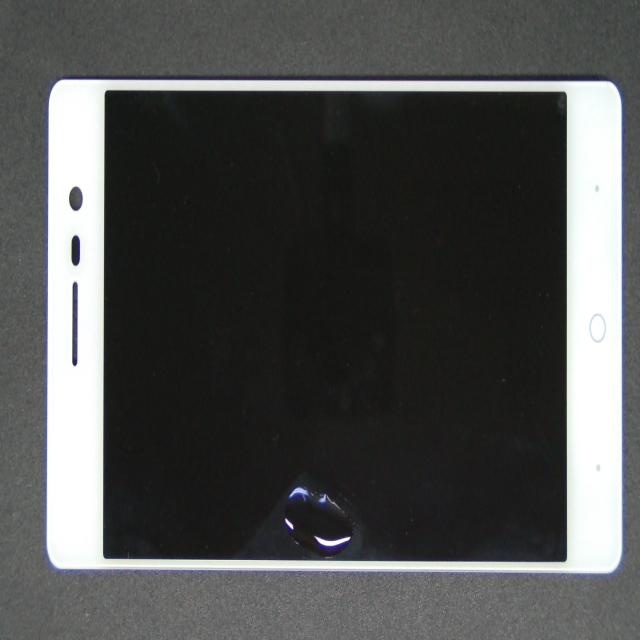oil: (189, 292, 535, 640)
